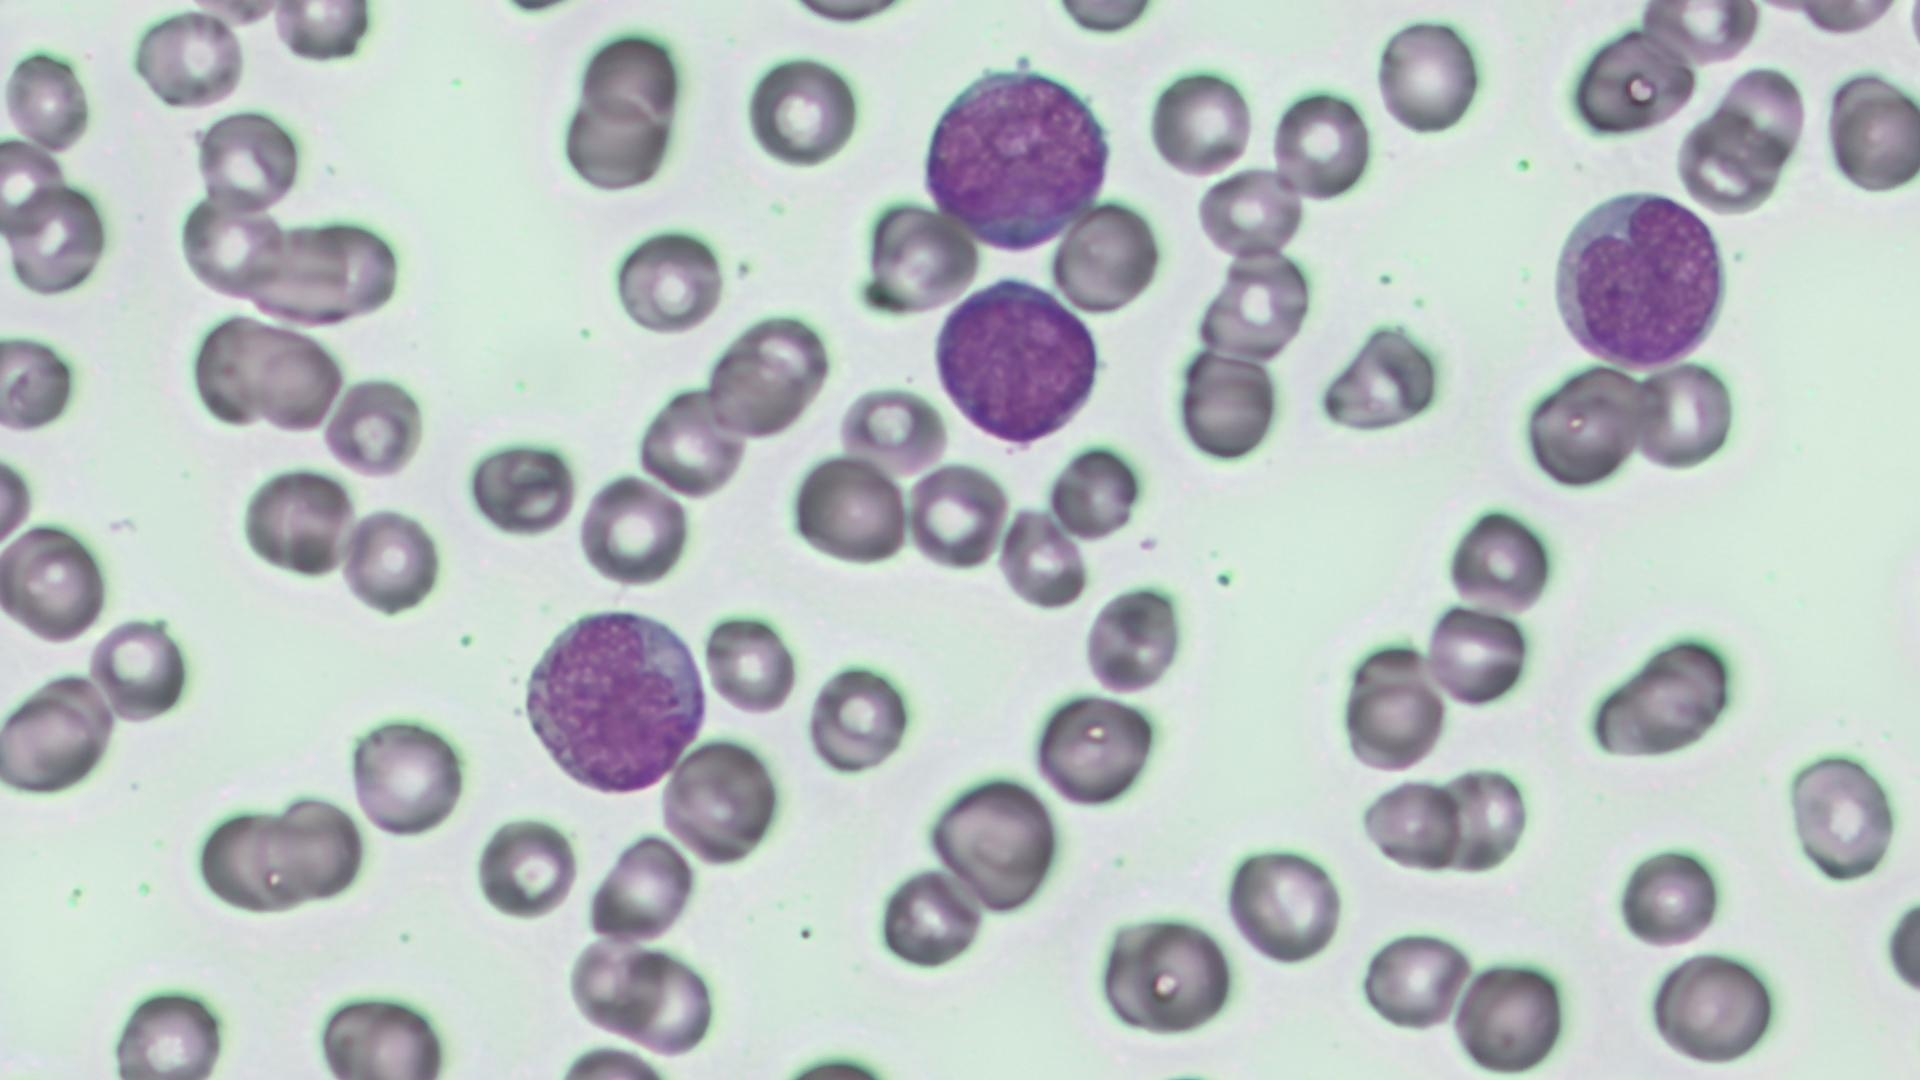Platelets: (1012, 50, 1033, 72)
RBC: (1090, 904, 1242, 1042), (1782, 739, 1908, 889), (927, 776, 1060, 914), (1641, 943, 1785, 1069), (1315, 315, 1451, 440), (1221, 836, 1346, 968), (255, 215, 408, 320), (1518, 361, 1644, 488), (661, 735, 782, 866), (1028, 691, 1162, 808), (1449, 951, 1572, 1076), (1560, 26, 1698, 137), (740, 47, 862, 172), (346, 711, 464, 838), (236, 462, 358, 582), (1192, 243, 1315, 362), (1370, 11, 1484, 139), (788, 451, 909, 570), (0, 517, 110, 647), (609, 220, 727, 339), (1442, 500, 1558, 621), (190, 802, 311, 918), (1336, 652, 1448, 776), (575, 472, 692, 588), (1355, 924, 1475, 1035), (314, 985, 454, 1079), (584, 828, 696, 945), (127, 5, 247, 113), (636, 384, 747, 500), (807, 656, 914, 776), (1079, 577, 1186, 697), (1630, 358, 1742, 472), (1420, 600, 1535, 711), (863, 204, 980, 313), (258, 787, 366, 905), (1146, 61, 1254, 179), (184, 309, 290, 429), (1268, 83, 1373, 204), (191, 104, 303, 216), (1052, 198, 1161, 313), (4, 178, 110, 296), (460, 433, 578, 538), (337, 502, 445, 616), (107, 981, 231, 1080), (876, 861, 984, 974), (610, 944, 720, 1054), (1, 687, 112, 796), (174, 193, 286, 301), (1172, 350, 1278, 463), (556, 92, 676, 191), (1822, 78, 1918, 201), (1435, 761, 1534, 880), (88, 616, 195, 724), (576, 29, 687, 133), (906, 458, 1008, 570), (835, 381, 952, 477), (1356, 773, 1467, 874), (1677, 107, 1782, 212), (320, 372, 423, 479), (1714, 62, 1808, 179), (700, 607, 798, 717), (251, 325, 346, 437), (2, 41, 97, 153), (1195, 165, 1306, 259), (1046, 440, 1147, 541), (996, 503, 1088, 612), (0, 331, 78, 438), (1635, 0, 1761, 66), (0, 133, 66, 245), (267, 1, 376, 65), (1878, 868, 1920, 1021), (1770, 0, 1911, 40), (1045, 0, 1165, 38), (0, 444, 38, 555), (783, 0, 908, 28)
WBC: (916, 54, 1120, 256), (514, 598, 711, 799), (1540, 180, 1742, 372), (930, 272, 1112, 451)
